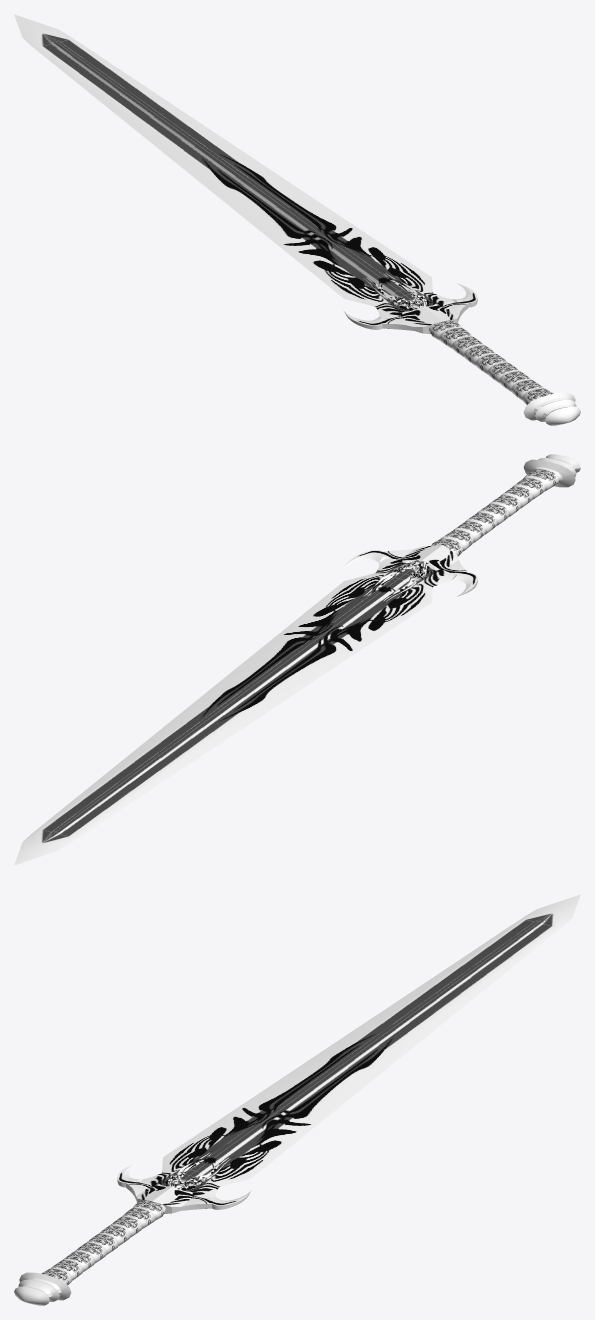
Rendered from sword.glb.
3 views of the same model, one above another, from view 1: azimuth 30°, elevation 25°; view 2: azimuth 150°, elevation 25°; view 3: azimuth 330°, elevation 25° (orthographic).
Parts seen in each view (by area): view 1: e; view 2: e; view 3: e.
Boxes of the visible parts, x1,y1,x2,y2 form: e: (14,14,580,425); e: (14,454,580,865); e: (14,894,580,1305).
Size of the model in its own units: 1.19 by 0.2201 by 9.46.
1 material, 1 textured.
